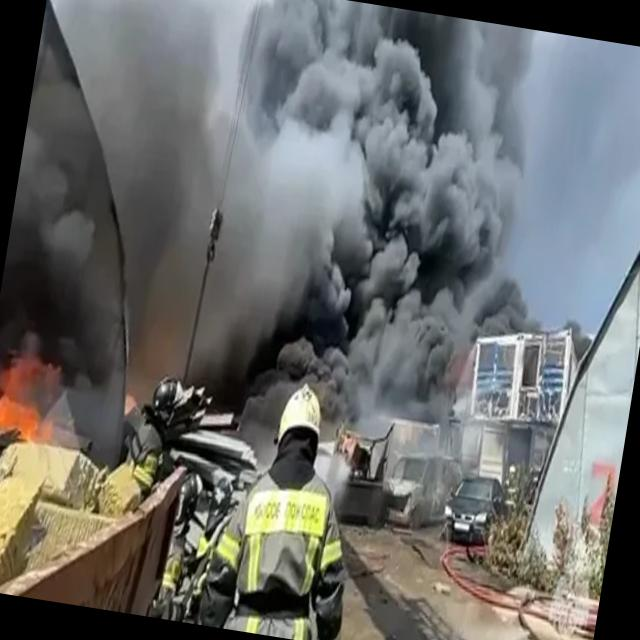Smoke: (173, 0, 576, 470)
